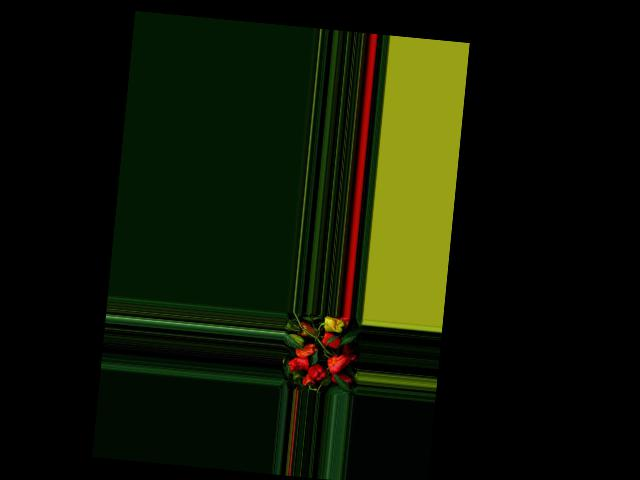bell_pepper: (301, 374, 312, 388)
